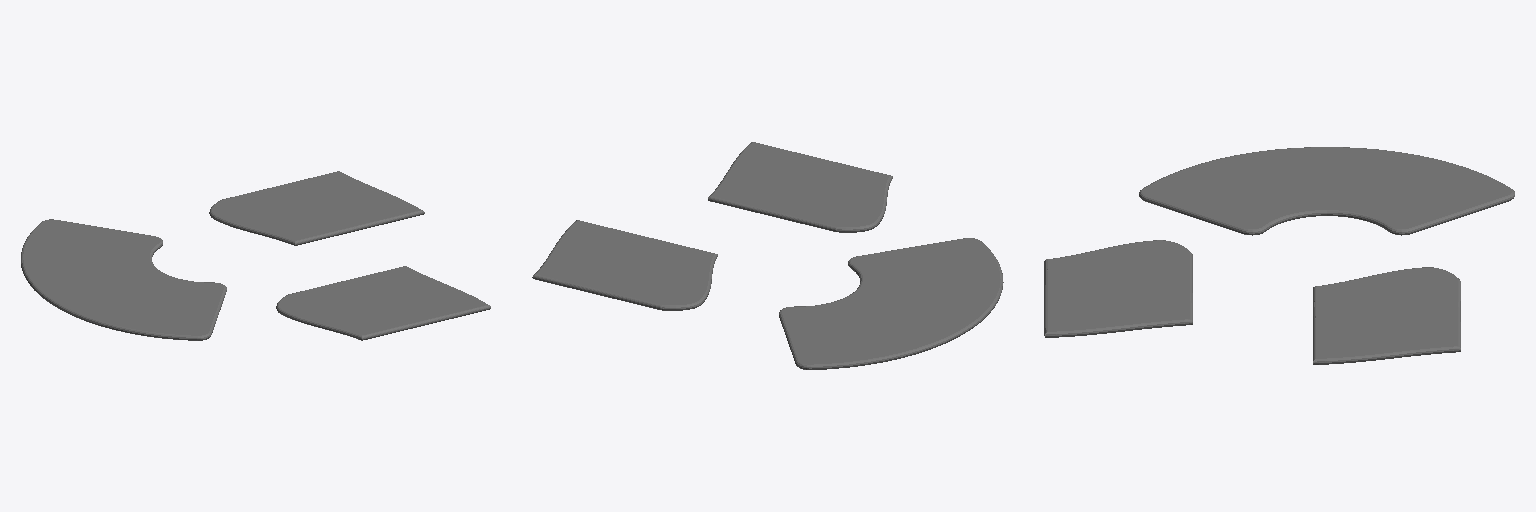
The robot description file, URDF, robot "pigeon_7":
<?xml version="1.0"?>

<robot
  name="pigeon_7">
  <link
    name="torso">
    <inertial>
      <origin
        xyz="-0.132434070149677 -2.92945297023749E-07 -0.00712750625005471"
        rpy="0 0 0" />
      <mass
        value="0.266575552840038" />
      <inertia
        ixx="0.00016350796386525"
        ixy="-1.32757604674376E-08"
        ixz="1.49468441773124E-05"
        iyy="0.000802843103287114"
        iyz="-8.62174508638243E-09"
        izz="0.0008571776199688" />
    </inertial>
    <visual>
      <origin
        xyz="0 0 0"
        rpy="0 0 0" />
      <geometry>
        <mesh
          filename="../meshes/torso.STL" />
      </geometry>
      <material
        name="">
        <color
          rgba="0.5 0.5 0.5 1" />
      </material>
    </visual>
  </link>
  <link
    name="tail">
    <inertial>
      <origin
        xyz="-1.02999651663334E-15 -3.39701042408457E-18 -0.0652517307094301"
        rpy="0 0 0" />
      <mass
        value="0.00283414865838335" />
      <inertia
        ixx="2.346394244564E-06"
        ixy="1.49306100565822E-23"
        ixz="-2.39091705413347E-20"
        iyy="1.14735911790603E-05"
        iyz="7.85403809661183E-24"
        izz="9.13466619052064E-06" />
    </inertial>
    <visual>
      <origin
        xyz="0 0 0"
        rpy="0 0 0" />
      <geometry>
        <mesh
          filename="../meshes/tail.STL" />
      </geometry>
      <material
        name="">
        <color
          rgba="0.5 0.5 0.5 1" />
      </material>
    </visual>
  </link>
  <joint
    name="tail_joint"
    type="continuous">
    <origin
      xyz="-0.229979541052234 0 0"
      rpy="-1.5707963267949 -6.12303176911189E-17 -1.5707963267949" />
    <parent
      link="torso" />
    <child
      link="tail" />
    <axis
      xyz="-1 0 0" />
  </joint>
  <link
    name="left_shoulder_roll_ghost">
    <inertial>
       <mass
        value="0" />
    </inertial>
  </link>
  <joint
    name="left_shoulder_roll"
    type="continuous">
    <origin
      xyz="-0.076979541052234 0.042 0"
      rpy="1.5707963267949 0 0" />
    <parent
      link="torso" />
    <child
      link="left_shoulder_roll_ghost" />
    <axis
      xyz="-1 0 0" />
  </joint>
  <link
    name="left_shoulder_pitch_ghost">
    <inertial>
       <mass
        value="0" />
    </inertial>
  </link>
  <joint
    name="left_shoulder_pitch"
    type="continuous">
    <origin
      xyz="-0.005 0 0"
      rpy="0 0 0" />
    <parent
      link="left_shoulder_roll_ghost" />
    <child
      link="left_shoulder_pitch_ghost" />
    <axis
      xyz="0 0 -1" />
  </joint>
  <link
    name="left_upper_wing">
    <inertial>
      <origin
        xyz="-0.0218027728742865 1.26519788748809E-08 -0.0593039239207447"
        rpy="0 0 0" />
      <mass
        value="0.00478467934314602" />
      <inertia
        ixx="3.47747506697265E-06"
        ixy="1.43326598504674E-12"
        ixz="4.41899816252948E-07"
        iyy="4.15090260308389E-06"
        iyz="-3.28097162561419E-12"
        izz="6.85803263309494E-07" />
    </inertial>
    <visual>
      <origin
        xyz="0 0 0"
        rpy="0 0 0" />
      <geometry>
        <mesh
          filename="../meshes/left_upper_wing.STL" />
      </geometry>
      <material
        name="">
        <color
          rgba="0.5 0.5 0.5 1" />
      </material>
    </visual>
  </link>
  <joint
    name="left_shoulder_yaw"
    type="continuous">
    <origin
      xyz="0.005 0 0"
      rpy="0 -1.5707963267949 0" />
    <parent
      link="left_shoulder_pitch_ghost" />
    <child
      link="left_upper_wing" />
    <axis
      xyz="0 0 -1" />
  </joint>
  <link
    name="left_elbow_roll_ghost">
    <inertial>
       <mass
        value="0" />
    </inertial>
  </link>
  <joint
    name="left_elbow_roll"
    type="continuous">
    <origin
      xyz="-0.0419980875771037 0 -0.0150543231592249"
      rpy="0 -1.5707963267949 0" />
    <parent
      link="left_upper_wing" />
    <child
      link="left_elbow_roll_ghost" />
    <axis
      xyz="-1 0 0" />
  </joint>
  <link
    name="left_elbow_pitch_ghost">
    <inertial>
       <mass
        value="0" />
    </inertial>
  </link>
  <joint
    name="left_elbow_pitch"
    type="continuous">
    <origin
      xyz="-0.00499999999999982 0 0"
      rpy="0 0 0" />
    <parent
      link="left_elbow_roll_ghost" />
    <child
      link="left_elbow_pitch_ghost" />
    <axis
      xyz="0 0 -1" />
  </joint>
  <link
    name="left_mid_wing">
    <inertial>
      <origin
        xyz="-0.0461463515315644 -7.03928821786758E-08 -0.0495486671552648"
        rpy="0 0 0" />
      <mass
        value="0.00923222139282931" />
      <inertia
        ixx="1.13159761781575E-05"
        ixy="2.18214270659684E-11"
        ixz="-1.65204671390391E-06"
        iyy="1.76124962714534E-05"
        iyz="1.10157921358031E-12"
        izz="6.32076926607801E-06" />
    </inertial>
    <visual>
      <origin
        xyz="0 0 0"
        rpy="0 0 0" />
      <geometry>
        <mesh
          filename="../meshes/left_mid_wing.STL" />
      </geometry>
      <material
        name="">
        <color
          rgba="0.5 0.5 0.5 1" />
      </material>
    </visual>
  </link>
  <joint
    name="left_elbow_yaw"
    type="continuous">
    <origin
      xyz="0 0 0"
      rpy="0 -1.5707963267949 0" />
    <parent
      link="left_elbow_pitch_ghost" />
    <child
      link="left_mid_wing" />
    <axis
      xyz="0 1 0" />
  </joint>
  <link
    name="left_hand_wing">
    <inertial>
      <origin
        xyz="-0.0597835058137273 -3.75375056547601E-08 -0.0458134569307157"
        rpy="0 0 0" />
      <mass
        value="0.00605546079567201" />
      <inertia
        ixx="4.30150583723145E-06"
        ixy="7.40776319597981E-12"
        ixz="1.56448026115006E-06"
        iyy="1.33027567122271E-05"
        iyz="4.65471379102572E-13"
        izz="9.01715501968073E-06" />
    </inertial>
    <visual>
      <origin
        xyz="0 0 0"
        rpy="0 0 0" />
      <geometry>
        <mesh
          filename="../meshes/left_hand_wing.STL" />
      </geometry>
      <material
        name="">
        <color
          rgba="0.5 0.5 0.5 1" />
      </material>
    </visual>
  </link>
  <joint
    name="left_wrist_roll"
    type="continuous">
    <origin
      xyz="-0.0929625657844591 0 0"
      rpy="0 0 1.11022302462516E-14" />
    <parent
      link="left_mid_wing" />
    <child
      link="left_hand_wing" />
    <axis
      xyz="0 0 -1" />
  </joint>
  <link
    name="right_shoulder_roll_ghost">
    <inertial>
       <mass
        value="0" />
    </inertial>
  </link>
  <joint
    name="right_shoulder_roll"
    type="continuous">
    <origin
      xyz="-0.076979541052234 -0.042 0"
      rpy="1.5707963267949 0 0" />
    <parent
      link="torso" />
    <child
      link="right_shoulder_roll_ghost" />
    <axis
      xyz="-1 0 0" />
  </joint>
  <link
    name="right_shoulder_pitch_ghost">
    <inertial>
       <mass
        value="0" />
    </inertial>
  </link>
  <joint
    name="right_shoulder_pitch"
    type="continuous">
    <origin
      xyz="-0.00500000000000002 0 0"
      rpy="0 0 0" />
    <parent
      link="right_shoulder_roll_ghost" />
    <child
      link="right_shoulder_pitch_ghost" />
    <axis
      xyz="0 0 -1" />
  </joint>
  <link
    name="right_upper_wing">
    <inertial>
      <origin
        xyz="-0.0218027728742856 -1.26519788395134E-08 0.0543039239207451"
        rpy="0 0 0" />
      <mass
        value="0.00478467934314603" />
      <inertia
        ixx="3.47747506697266E-06"
        ixy="-1.43326598006839E-12"
        ixz="-4.41899816252929E-07"
        iyy="4.15090260308389E-06"
        iyz="-3.28097162893791E-12"
        izz="6.8580326330949E-07" />
    </inertial>
    <visual>
      <origin
        xyz="0 0 0"
        rpy="0 0 0" />
      <geometry>
        <mesh
          filename="../meshes/right_upper_wing.STL" />
      </geometry>
      <material
        name="">
        <color
          rgba="0.5 0.5 0.5 1" />
      </material>
    </visual>
  </link>
  <joint
    name="right_shoulder_yaw"
    type="continuous">
    <origin
      xyz="0 0 0"
      rpy="3.14159265358979 1.5707963267949 0" />
    <parent
      link="right_shoulder_pitch_ghost" />
    <child
      link="right_upper_wing" />
    <axis
      xyz="0 1 0" />
  </joint>
  <link
    name="right_elbow_roll_ghost">
    <inertial>
       <mass
        value="0" />
    </inertial>
  </link>
  <joint
    name="right_elbow_roll"
    type="continuous">
    <origin
      xyz="-0.041998087577103 0 0.0100543231592249"
      rpy="3.14159265358979 1.5707963267949 0" />
    <parent
      link="right_upper_wing" />
    <child
      link="right_elbow_roll_ghost" />
    <axis
      xyz="-1 0 0" />
  </joint>
  <link
    name="right_elbow_pitch_ghost">
    <inertial>
       <mass
        value="0" />
    </inertial>
  </link>
  <joint
    name="right_elbow_pitch"
    type="continuous">
    <origin
      xyz="-0.00500000000000002 0 0"
      rpy="0 0 0" />
    <parent
      link="right_elbow_roll_ghost" />
    <child
      link="right_elbow_pitch_ghost" />
    <axis
      xyz="0 0 -1" />
  </joint>
  <link
    name="right_mid_wing">
    <inertial>
      <origin
        xyz="-0.0461463515315641 7.03928823037418E-08 0.049548667155265"
        rpy="0 0 0" />
      <mass
        value="0.00923222139282929" />
      <inertia
        ixx="1.13159761781577E-05"
        ixy="-2.18214271520626E-11"
        ixz="1.65204671390387E-06"
        iyy="1.76124962714536E-05"
        iyz="1.10157919096275E-12"
        izz="6.32076926607806E-06" />
    </inertial>
    <visual>
      <origin
        xyz="0 0 0"
        rpy="0 0 0" />
      <geometry>
        <mesh
          filename="../meshes/right_mid_wing.STL" />
      </geometry>
      <material
        name="">
        <color
          rgba="0.5 0.5 0.5 1" />
      </material>
    </visual>
  </link>
  <joint
    name="right_elbow_yaw"
    type="continuous">
    <origin
      xyz="0 0 0"
      rpy="3.14159265358979 1.5707963267949 0" />
    <parent
      link="right_elbow_pitch_ghost" />
    <child
      link="right_mid_wing" />
    <axis
      xyz="0 1 0" />
  </joint>
  <link
    name="right_hand_wing">
    <inertial>
      <origin
        xyz="-0.0597835058137272 3.75375041037705E-08 0.0458134569307162"
        rpy="0 0 0" />
      <mass
        value="0.00605546079567198" />
      <inertia
        ixx="4.30150583722961E-06"
        ixy="-7.40776313110685E-12"
        ixz="-1.56448026114958E-06"
        iyy="1.33027567122248E-05"
        iyz="4.65471368181661E-13"
        izz="9.01715501968028E-06" />
    </inertial>
    <visual>
      <origin
        xyz="0 0 0"
        rpy="0 0 0" />
      <geometry>
        <mesh
          filename="../meshes/right_hand_wing.STL" />
      </geometry>
      <material
        name="">
        <color
          rgba="0.5 0.5 0.5 1" />
      </material>
    </visual>
  </link>
  <joint
    name="right_wrist_roll"
    type="continuous">
    <origin
      xyz="-0.0929625657844594 0 0"
      rpy="0 0 -3.19189119579733E-14" />
    <parent
      link="right_mid_wing" />
    <child
      link="right_hand_wing" />
    <axis
      xyz="0 0 1" />
  </joint>
</robot>

--- Facts derived from the render (not from the file) ---
3 views of the same robot in one strip: view 1: azimuth 30°, elevation 25°; view 2: azimuth 150°, elevation 25°; view 3: azimuth 270°, elevation 25° (orthographic).
Model pigeon_7 with 16 links and 15 joints (15 continuous), rooted at torso, posed all joints at 0.
Links seen in each view (by area): view 1: tail, left_mid_wing, right_mid_wing; view 2: tail, right_mid_wing, left_mid_wing; view 3: tail, right_mid_wing, left_mid_wing.
Link boxes in pixels (bbox=[...]): tail: bbox=[21, 219, 226, 340]; left_mid_wing: bbox=[209, 171, 424, 245]; right_mid_wing: bbox=[276, 266, 490, 340]; tail: bbox=[779, 238, 1003, 369]; right_mid_wing: bbox=[708, 142, 892, 232]; left_mid_wing: bbox=[532, 220, 717, 310]; tail: bbox=[1139, 147, 1514, 235]; right_mid_wing: bbox=[1044, 240, 1192, 337]; left_mid_wing: bbox=[1313, 267, 1460, 364].
Bounding box of the posed robot: 0.3176 × 0.2949 × 0.004 m (x, y, z).
3 mesh visuals loaded from 8 distinct referenced files (3 binary STL); not drawn: 5 (reference not matched to a file when rendering).